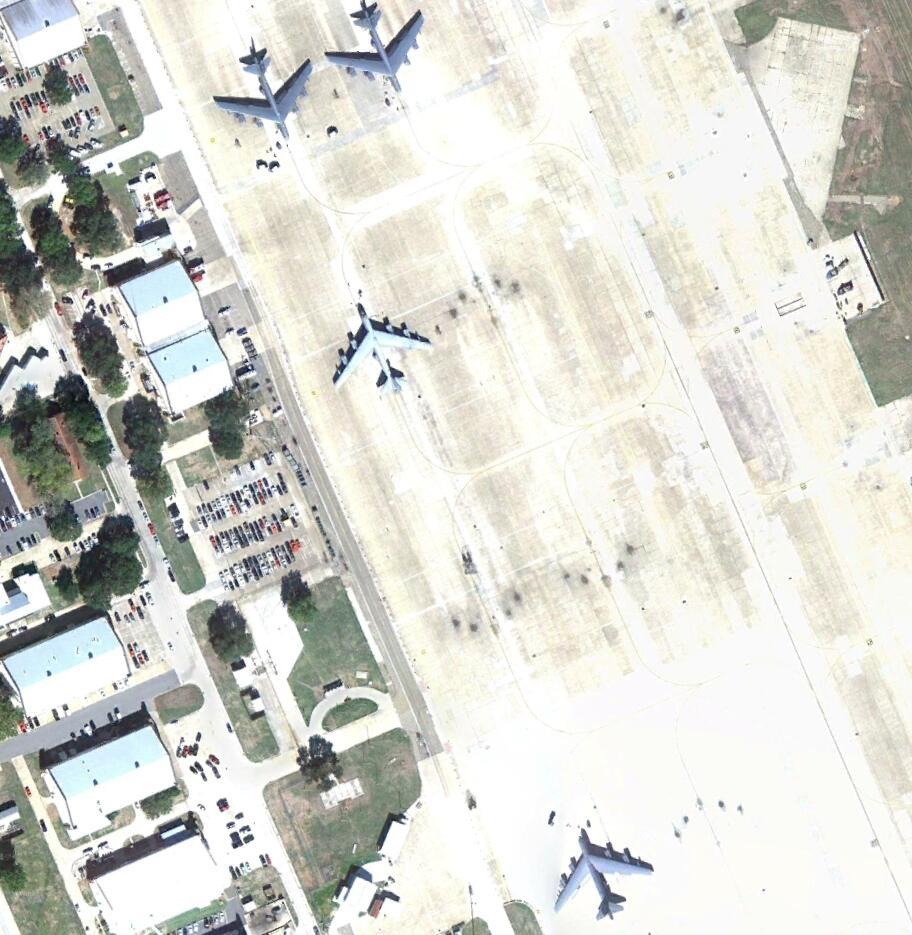A8: (207, 42, 313, 142), (328, 306, 438, 402), (546, 829, 656, 925), (323, 3, 430, 94)
